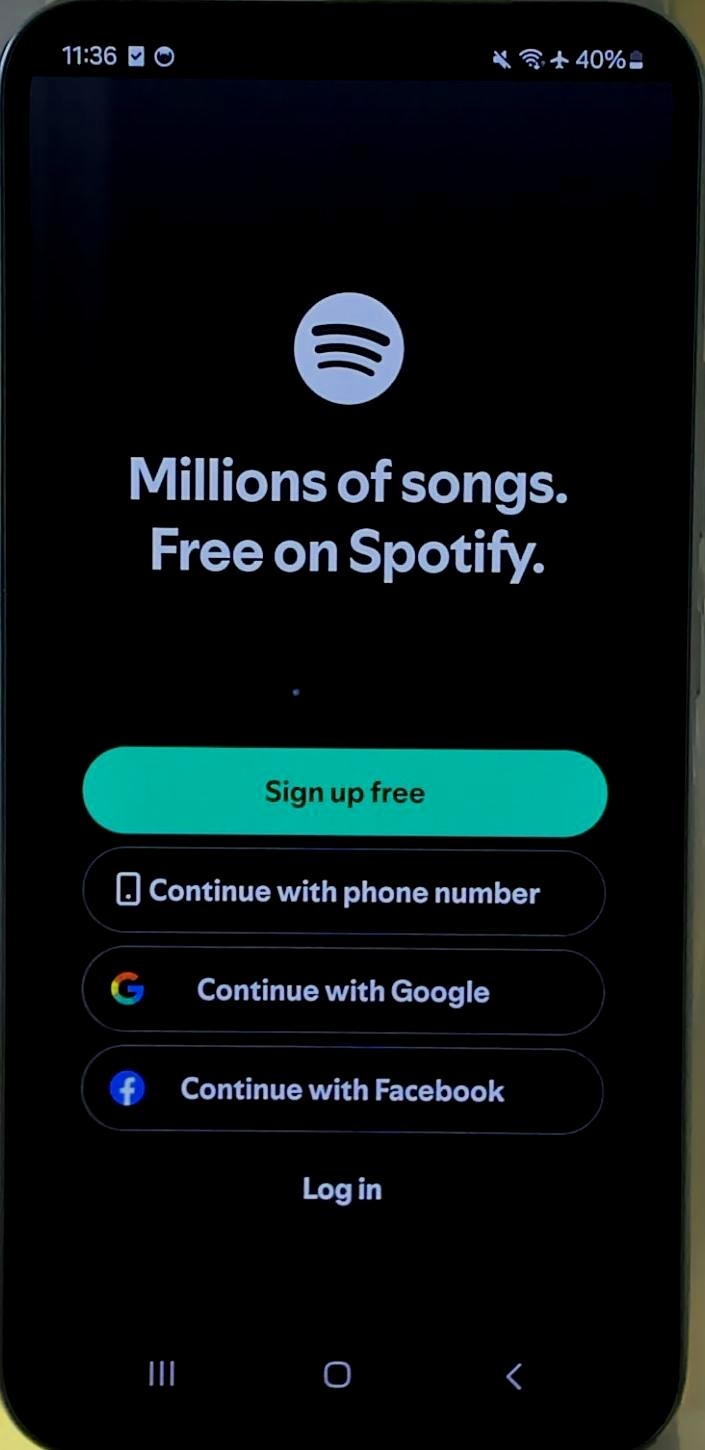CommunBotton: (80, 840, 624, 946), (78, 1044, 612, 1150), (80, 946, 620, 1036), (82, 744, 612, 834), (282, 1154, 392, 1218), (126, 1336, 190, 1400), (492, 1352, 560, 1402), (316, 1344, 362, 1398)
